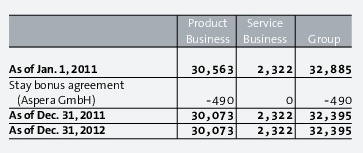table: (0, 0, 363, 153)
